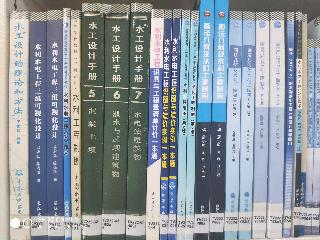book-spine: (104, 6, 130, 239), (128, 6, 149, 240), (195, 0, 213, 239), (211, 1, 229, 240), (83, 5, 101, 238), (10, 12, 28, 239), (47, 11, 64, 238), (225, 13, 241, 239), (147, 11, 162, 239), (31, 12, 46, 238), (176, 13, 191, 239), (253, 14, 268, 238), (268, 14, 283, 236), (240, 14, 254, 238), (160, 12, 173, 239), (168, 11, 180, 238), (187, 13, 198, 239), (70, 11, 80, 239), (292, 12, 302, 236), (298, 15, 308, 237), (284, 13, 293, 236), (63, 10, 71, 239), (305, 39, 313, 233), (312, 41, 320, 234)
